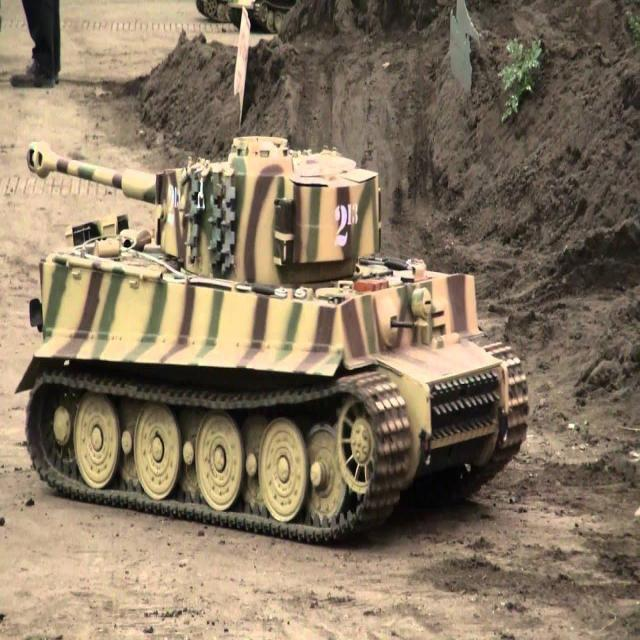MIL_MBT: (22, 116, 532, 548)
